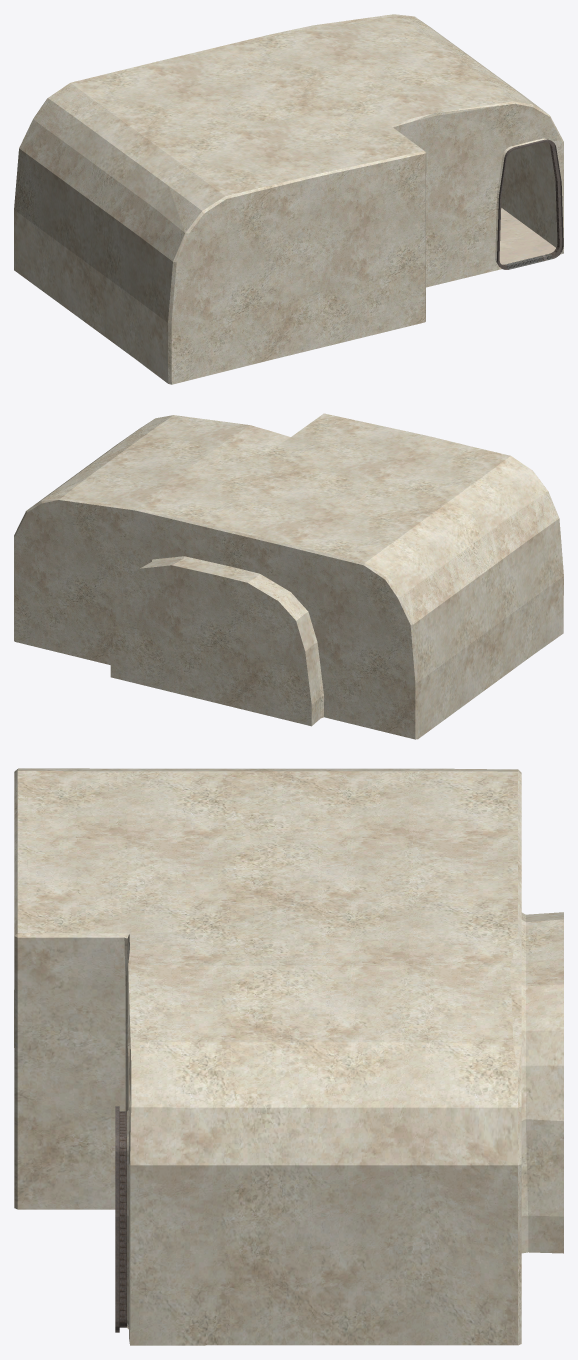
File: thm_tato_house_sml_s01_fp1_r5_bedroom2_mesh_r5.fbx
3 renders of one model, top to bottom at view 1: azimuth 30°, elevation 25°; view 2: azimuth 150°, elevation 25°; view 3: azimuth 270°, elevation 25°, orthographic. The views are drawn at different scales.
Parts seen in each view (by area): view 1: mesh_node; view 2: mesh_node; view 3: mesh_node.
Part boxes in pixels (x1,y1,x2,y2): mesh_node: (14,14,563,384); mesh_node: (14,413,563,739); mesh_node: (14,768,563,1345).
Bounding box in the file's own units: 11.94 × 4.63 × 8.19.
